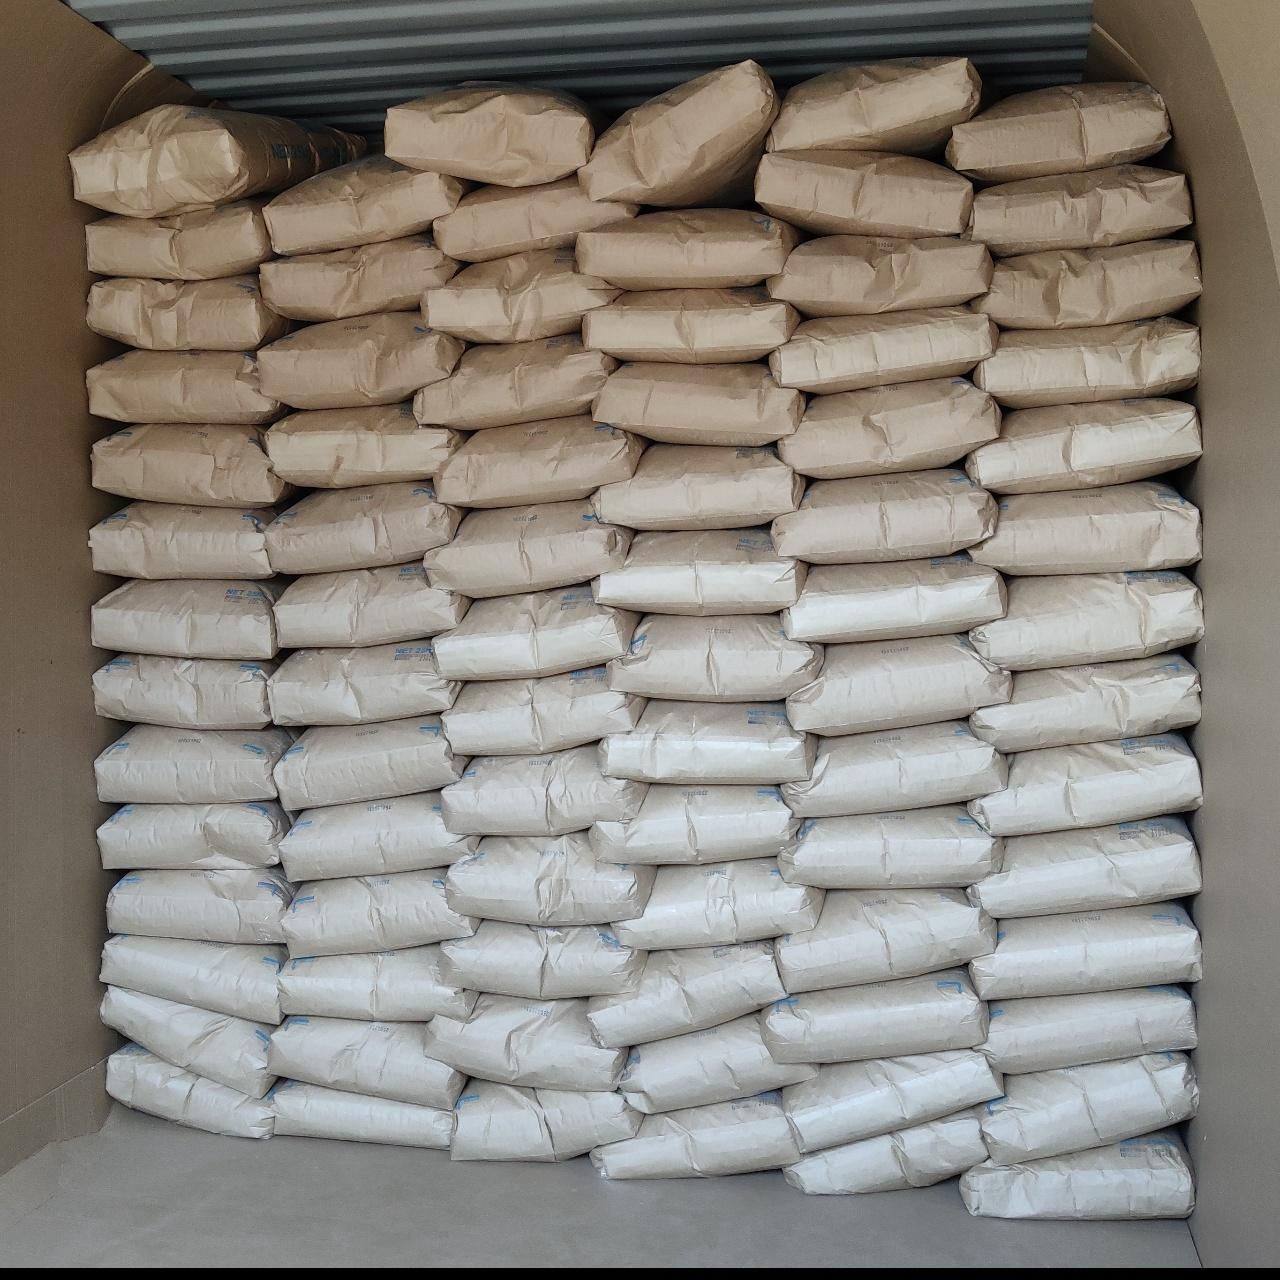sack: (72, 106, 366, 214), (580, 62, 776, 206), (970, 734, 1200, 834), (970, 818, 1198, 918), (970, 572, 1202, 670), (982, 1054, 1198, 1158), (970, 654, 1198, 750), (776, 890, 994, 990), (946, 84, 1168, 182), (972, 902, 1198, 998), (968, 398, 1198, 492), (784, 1050, 1000, 1150), (786, 636, 1006, 734), (760, 968, 986, 1062), (970, 482, 1198, 574), (780, 380, 998, 476), (782, 722, 1006, 814), (264, 154, 470, 254), (774, 468, 996, 560), (590, 942, 784, 1046), (768, 58, 982, 152), (962, 1130, 1190, 1218), (386, 86, 592, 182), (974, 318, 1198, 406), (966, 166, 1190, 254), (426, 500, 630, 596), (258, 312, 464, 406), (974, 240, 1198, 326), (446, 832, 654, 924), (782, 556, 1004, 642), (436, 416, 646, 506), (434, 586, 638, 678), (620, 1014, 814, 1110), (416, 334, 614, 428), (444, 744, 646, 836), (770, 308, 996, 390), (608, 614, 822, 700), (614, 860, 822, 948), (594, 528, 806, 614), (102, 988, 274, 1094), (426, 994, 624, 1086), (422, 250, 616, 342), (780, 806, 1002, 886), (756, 150, 972, 232), (980, 988, 1196, 1070), (266, 482, 462, 572), (784, 1109, 988, 1194), (594, 362, 804, 444), (594, 444, 804, 526), (444, 668, 644, 754), (770, 236, 990, 314), (600, 702, 814, 782), (272, 1016, 462, 1106), (280, 792, 478, 878), (276, 716, 464, 806), (578, 210, 798, 286), (284, 870, 478, 956), (266, 402, 464, 486), (436, 178, 638, 260), (592, 1094, 798, 1174), (274, 562, 468, 646), (262, 236, 458, 318), (584, 288, 798, 362), (102, 936, 286, 1022), (592, 786, 798, 862), (440, 922, 646, 998), (106, 1044, 274, 1137), (270, 642, 460, 724), (92, 426, 292, 502), (450, 1080, 642, 1158), (88, 276, 290, 350), (88, 198, 272, 278), (96, 726, 292, 800), (280, 946, 476, 1020), (92, 580, 280, 656), (90, 502, 276, 578), (88, 350, 284, 422), (108, 868, 294, 942), (94, 654, 274, 726), (100, 802, 288, 868), (272, 1082, 454, 1150)
